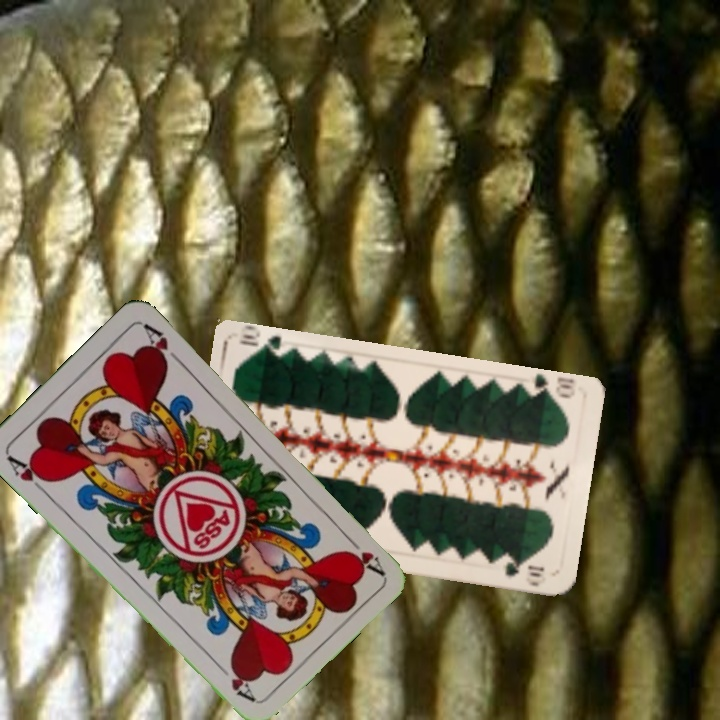G10: (521, 372, 578, 403)
HA: (3, 451, 53, 497), (339, 529, 386, 577)
